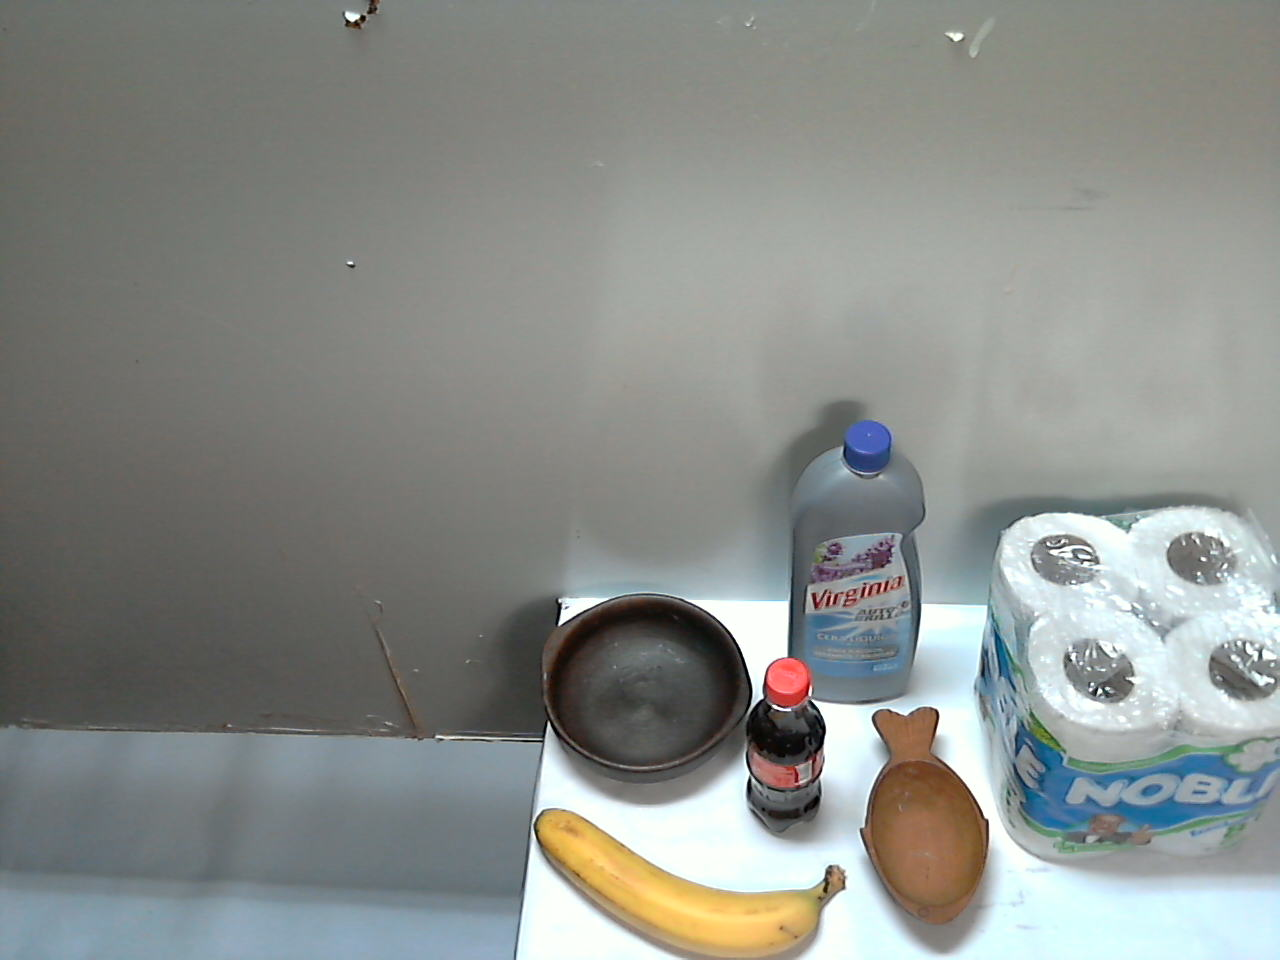estuche: (488, 725, 723, 888)
harina: (917, 582, 1102, 800)
mantequilla: (779, 841, 930, 951)
pelota: (663, 822, 770, 926)
uslero: (645, 631, 1105, 936)
yogurt: (520, 473, 655, 751)
